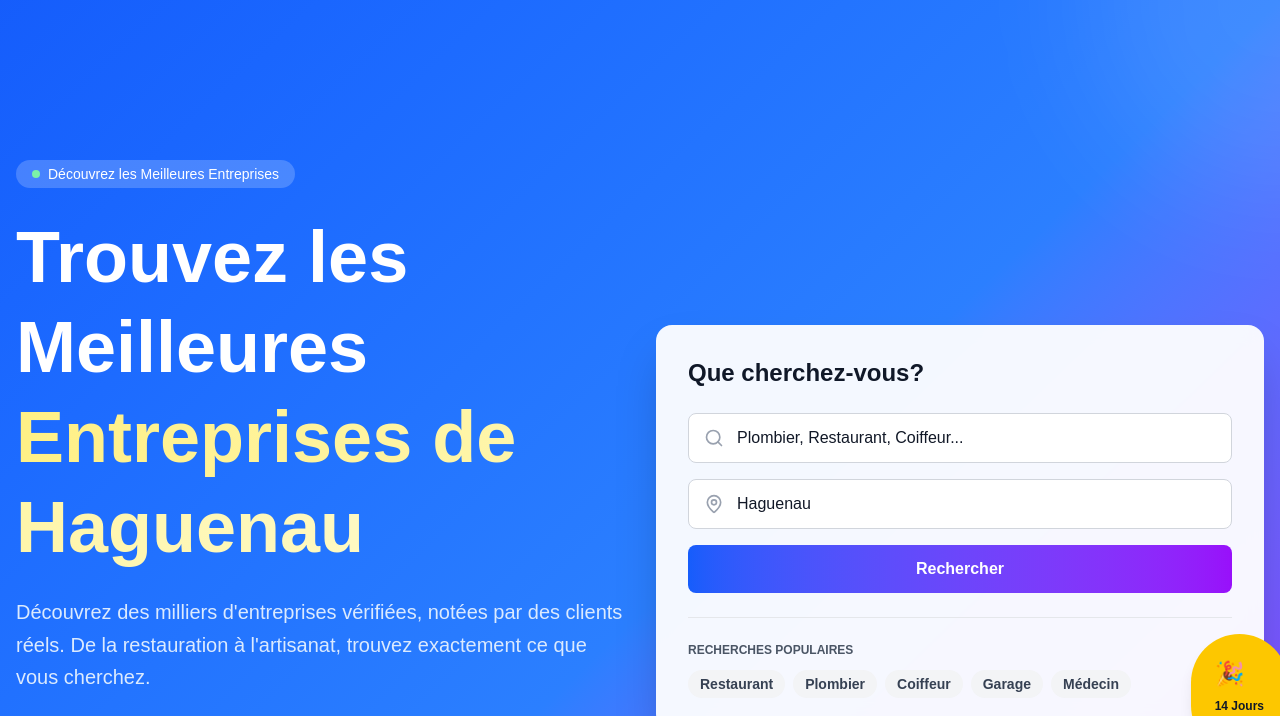
Test case: HeroSection › Popular Searches › should set search query when popular search is clicked
Click the button "Plombier". click: (835, 684)
box: 793,670 -> 877,698
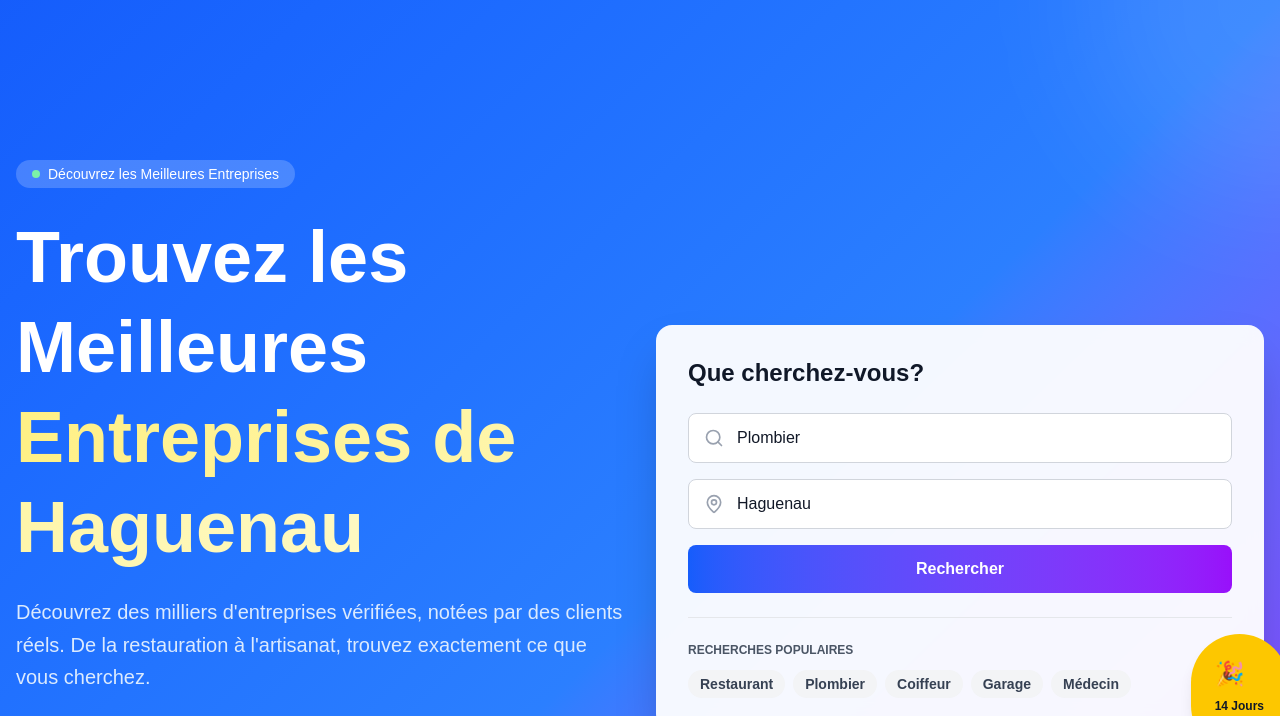
Check: the 1st field with placeholder "Plombier, Restaurant, Coiffeur..." holds "Plombier", box 688,413 -> 1232,463
